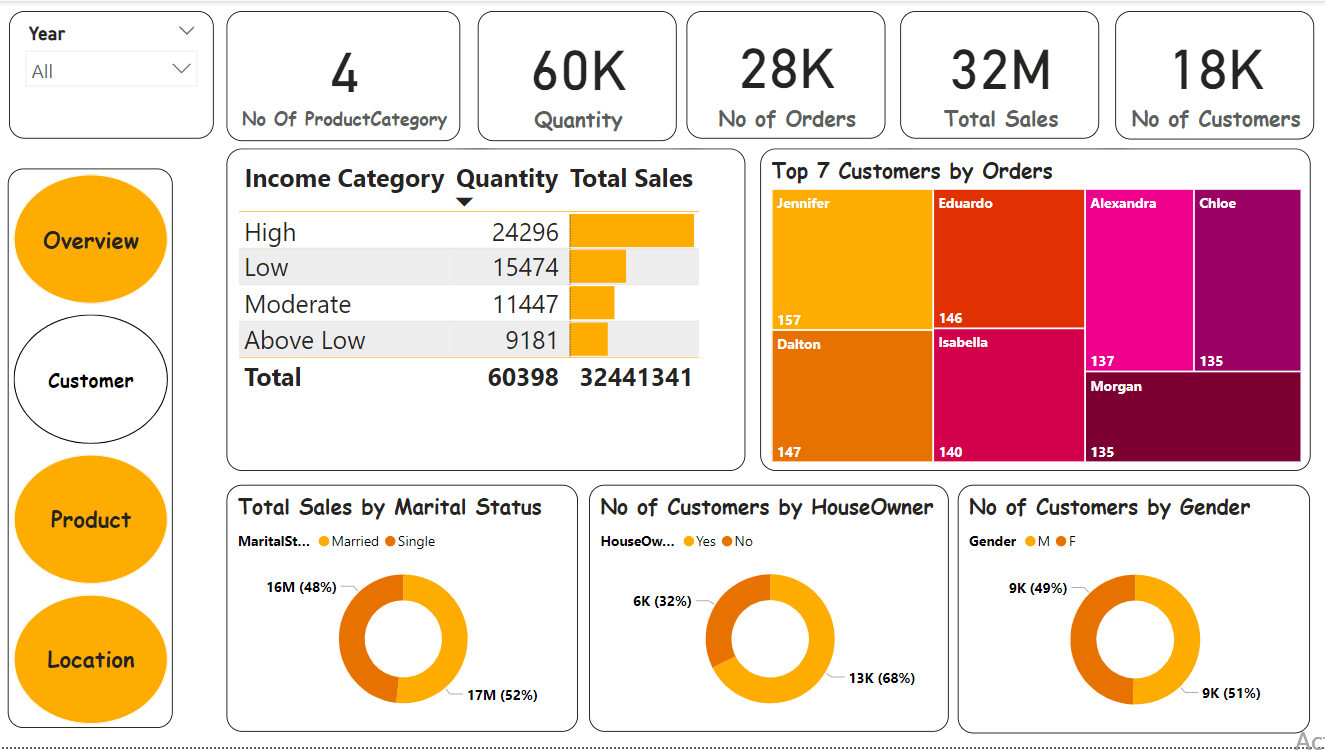

This screenshot's page, from the dashboard's own definition file:
{"tool":"powerbi","page":{"name":"Customer","canvas":[1280,720],"ordinal":1},"visuals":[{"type":"donutChart","fields":{"Y":["My Measures.No of Customers"],"Category":["Customer.Gender"]},"box":[924.9,466.6,340.3,240.1],"z":0},{"type":"donutChart","title":"Total Sales by Marital Status","fields":{"Y":["My Measures.Total Sales"],"Category":["Customer.MaritalStatus"]},"box":[219.5,466.7,338.9,238.8],"z":1000},{"type":"donutChart","title":"No of Customers by HouseOwner","fields":{"Category":["Customer.HouseOwnerFlag"],"Y":["My Measures.No of Customers"]},"box":[569.2,466.7,347.3,238.8],"z":2000},{"type":"treemap","title":"Top 7 Customers by Orders","fields":{"Group":["Customer.FirstName"],"Values":["My Measures.No of Orders"]},"box":[734.1,142.7,531,311.5],"z":3000},{"type":"tableEx","fields":{"Values":["Customer.Income Category","My Measures.Quantity","My Measures.Total Sales"]},"box":[219.6,142.7,500.9,311.5],"z":4000},{"type":"card","fields":{"Values":["My Measures.Quantity"]},"box":[461.9,9.6,191.8,125.4],"z":5000},{"type":"card","fields":{"Values":["My Measures.No of Orders"]},"box":[663.3,9.6,191.8,123],"z":6000},{"type":"card","fields":{"Values":["My Measures.Total Sales"]},"box":[870,9.6,192.1,123.5],"z":7000},{"type":"card","fields":{"Values":["My Measures.No of Customers"]},"box":[1077.2,9.6,192.1,124],"z":8000},{"type":"card","fields":{"Values":["My Measures.No Of ProductCategory"]},"box":[219.5,9.6,225.5,125.4],"z":9000},{"type":"slicer","fields":{"Values":["InternetSale.Year"]},"box":[9.6,9.6,197.6,123.5],"z":10000},{"type":"pageNavigator","box":[9,162,159,540],"z":11000}]}

Visuals, with their boxes in screenshot pixels (x1, y1, x2, y2), scaled from the page's 1280x720 canvas onto the 1325x751 screenshot:
donutChart - My Measures.No of Customers x Customer.Gender: 957, 487, 1310, 737
"Total Sales by Marital Status" donutChart: 227, 487, 578, 736
"No of Customers by HouseOwner" donutChart: 589, 487, 949, 736
"Top 7 Customers by Orders" treemap: 760, 149, 1310, 474
tableEx - Customer.Income Category x My Measures.Quantity: 227, 149, 746, 474
card - My Measures.Quantity: 478, 10, 677, 141
card - My Measures.No of Orders: 687, 10, 885, 138
card - My Measures.Total Sales: 901, 10, 1099, 139
card - My Measures.No of Customers: 1115, 10, 1314, 139
card - My Measures.No Of ProductCategory: 227, 10, 461, 141
slicer - InternetSale.Year: 10, 10, 214, 139
pageNavigator: 9, 169, 174, 732
